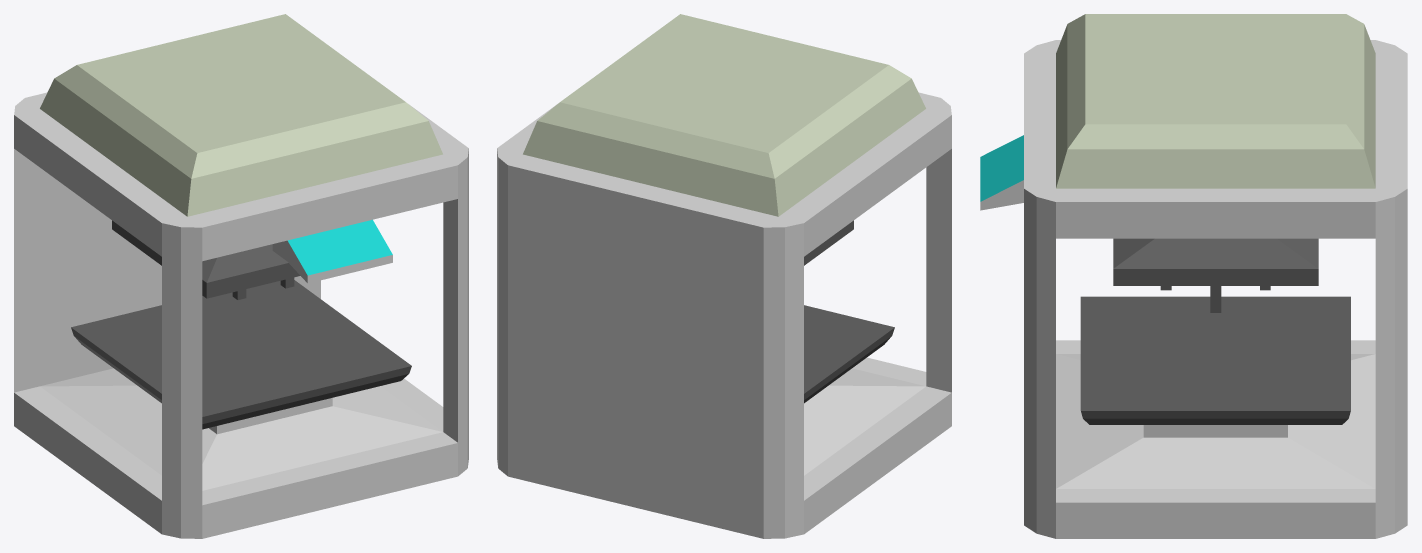
The model's file is FactoryPrinter.fbx.
3 renders of one model, left to right at view 1: azimuth 30°, elevation 25°; view 2: azimuth 150°, elevation 25°; view 3: azimuth 270°, elevation 25°, orthographic. The views are drawn at different scales.
Parts seen in each view (by area): view 1: FactoryPrinter; view 2: FactoryPrinter; view 3: FactoryPrinter.
Part boxes in pixels (x1,y1,x2,y2): FactoryPrinter: [14, 14, 468, 538]; FactoryPrinter: [497, 14, 951, 538]; FactoryPrinter: [980, 14, 1407, 538].
Size of the model in its own units: 200 by 224 by 223.
